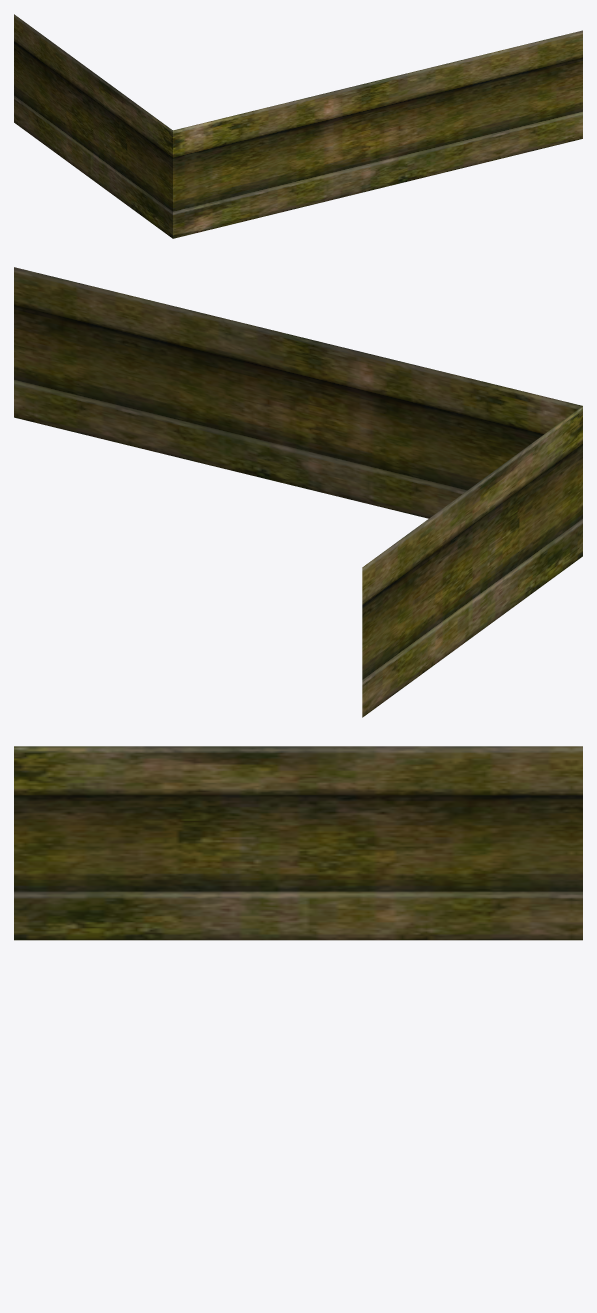
File: OVERHILL_A_01_LINE211.fbx
3 views of the same model, one above another, from view 1: azimuth 30°, elevation 25°; view 2: azimuth 150°, elevation 25°; view 3: azimuth 270°, elevation 25° (orthographic). The views are drawn at different scales.
Parts seen in each view (by area): view 1: OVERHILL_A_01_LINE211; view 2: OVERHILL_A_01_LINE211; view 3: OVERHILL_A_01_LINE211.
Part boxes in pixels (x1,y1,x2,y2): OVERHILL_A_01_LINE211: (14,14,582,238); OVERHILL_A_01_LINE211: (14,267,582,717); OVERHILL_A_01_LINE211: (14,746,582,940).
Size of the model in its own units: 30000 by 7581 by 20148.
Materials: 1 (1 with a texture image).
